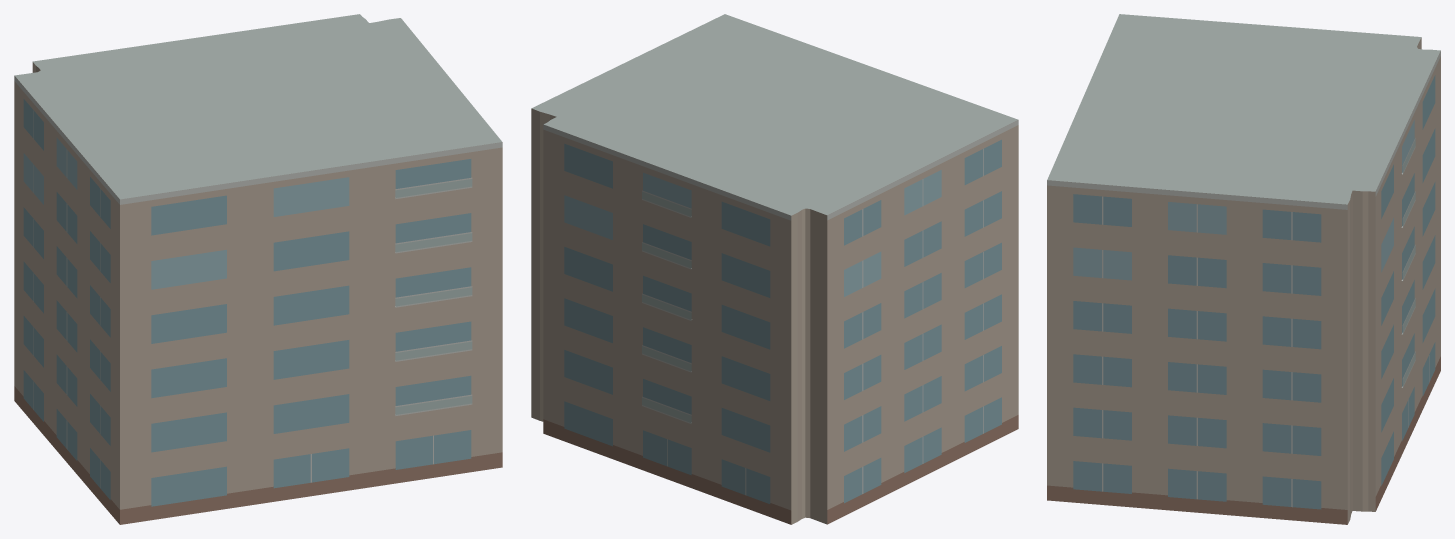
Rendered from survey-upis-32887523.glb.
3 views of the same model, side by side, from view 1: azimuth 30°, elevation 25°; view 2: azimuth 150°, elevation 25°; view 3: azimuth 270°, elevation 25° (orthographic). The views are drawn at different scales.
Parts seen in each view (by area): view 1: survey-upis-32887523.tmp; view 2: survey-upis-32887523.tmp; view 3: survey-upis-32887523.tmp.
Part boxes in pixels (x1=…): survey-upis-32887523.tmp: x1=14, y1=14, x2=502, y2=524; survey-upis-32887523.tmp: x1=531, y1=14, x2=1018, y2=524; survey-upis-32887523.tmp: x1=1047, y1=14, x2=1440, y2=524.
Size of the model in its own units: 18.64 by 14.6 by 16.28.
